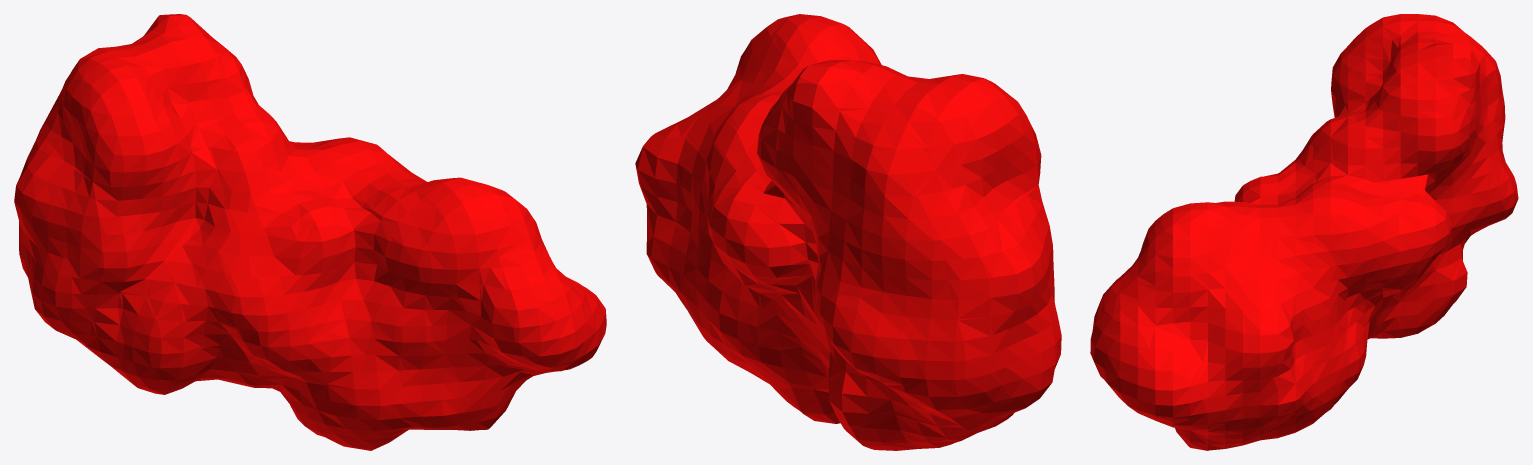
The model's file is nadC_coarse.dae.
The picture shows the model from 3 angles, left to right: view 1: azimuth 30°, elevation 25°; view 2: azimuth 150°, elevation 25°; view 3: azimuth 270°, elevation 25°; orthographic projection. The views are drawn at different scales.
Visible parts, largest first — view 1: nadC; view 2: nadC; view 3: nadC.
Boxes of the visible parts, x1,y1,x2,y2 form: nadC: (14,14,606,450); nadC: (635,14,1061,450); nadC: (1090,14,1518,450).
Bounding box in the file's own units: 68.02 × 56.05 × 62.57.
